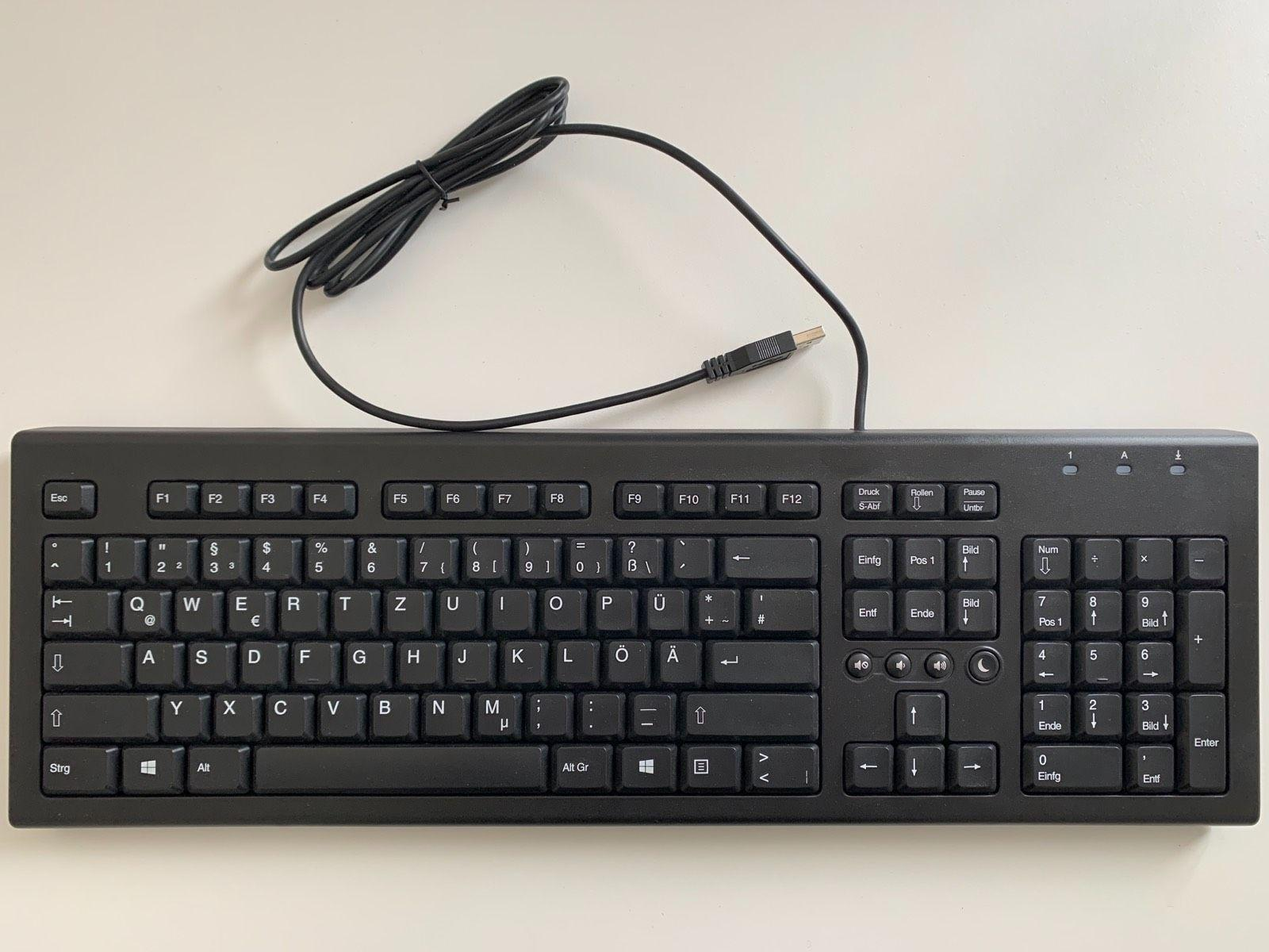0: (565, 534, 608, 579)
1: (94, 535, 136, 580)
2: (147, 534, 191, 579)
3: (198, 533, 243, 580)
4: (251, 533, 293, 579)
5: (302, 532, 346, 580)
6: (355, 533, 400, 580)
7: (409, 534, 453, 580)
8: (462, 534, 505, 580)
9: (514, 533, 558, 580)
a: (133, 638, 175, 684)
accent: (669, 533, 711, 578)
ae: (656, 636, 700, 683)
alt-left: (185, 743, 245, 791)
altgr-right: (551, 742, 610, 788)
b: (367, 690, 412, 735)
c: (263, 690, 307, 735)
caret: (40, 533, 82, 580)
comma: (525, 690, 569, 736)
d: (238, 638, 280, 684)
del: (720, 532, 815, 578)
e: (224, 585, 268, 631)
enter: (707, 637, 817, 683)
f: (290, 639, 331, 683)
g: (342, 638, 386, 684)
h: (396, 638, 438, 683)
hash: (748, 585, 817, 631)
i: (488, 585, 530, 630)
j: (447, 638, 490, 683)
k: (500, 637, 543, 682)
keyboard: (7, 429, 1262, 827)
l: (553, 637, 594, 682)
less: (746, 743, 821, 790)
m: (473, 689, 518, 737)
minus: (629, 689, 673, 735)
n: (420, 689, 466, 735)
o: (538, 585, 582, 631)
oe: (604, 636, 648, 682)
p: (590, 585, 634, 630)
plus: (694, 585, 738, 631)
point: (577, 690, 620, 735)
q: (119, 586, 164, 632)
r: (277, 585, 320, 631)
s: (185, 638, 228, 684)
shift-left: (40, 690, 151, 738)
shift-lock: (40, 639, 121, 685)
shift-right: (683, 689, 817, 735)
space: (251, 742, 543, 789)
ss: (616, 533, 660, 578)
strg-left: (36, 743, 110, 793)
t: (330, 586, 372, 631)
tab: (40, 585, 110, 632)
u: (435, 585, 478, 631)
ue: (642, 585, 686, 631)
v: (316, 691, 361, 736)
w: (172, 585, 216, 631)
x: (213, 691, 255, 735)
y: (159, 691, 202, 736)
z: (383, 585, 424, 631)
